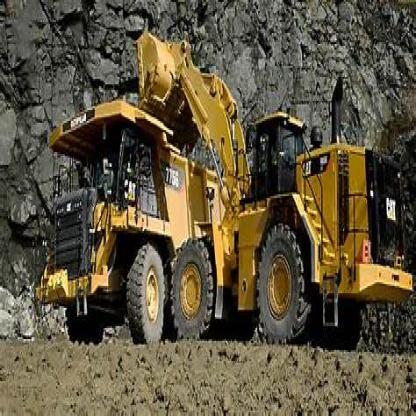bull_dozer/loader/grader: (132, 22, 415, 359)
